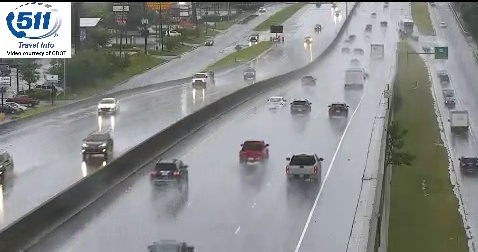car: (151, 160, 187, 186), (286, 154, 322, 179), (239, 141, 269, 162), (290, 99, 311, 114), (329, 103, 348, 117), (268, 96, 285, 110)
